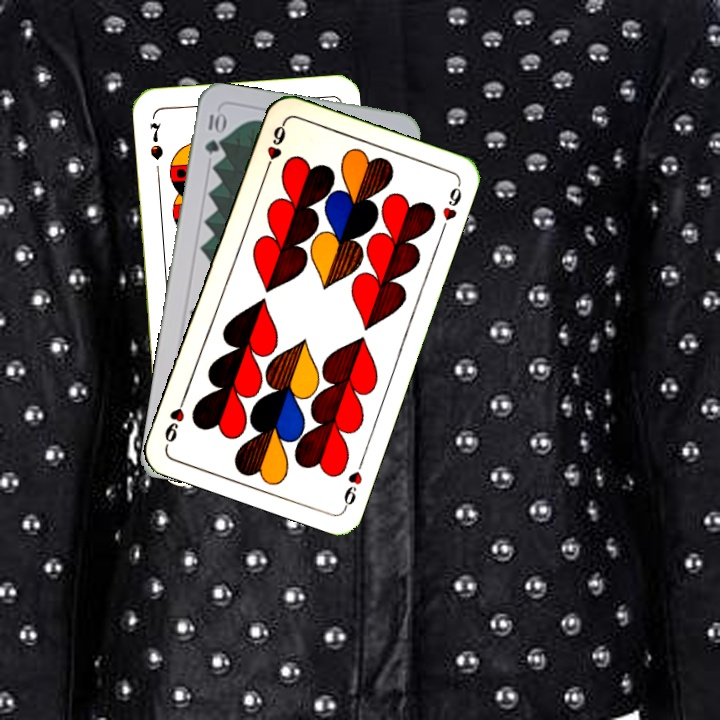G10: (201, 107, 227, 157)
H9: (260, 119, 289, 176), (339, 454, 367, 511)
S7: (145, 118, 166, 163)
